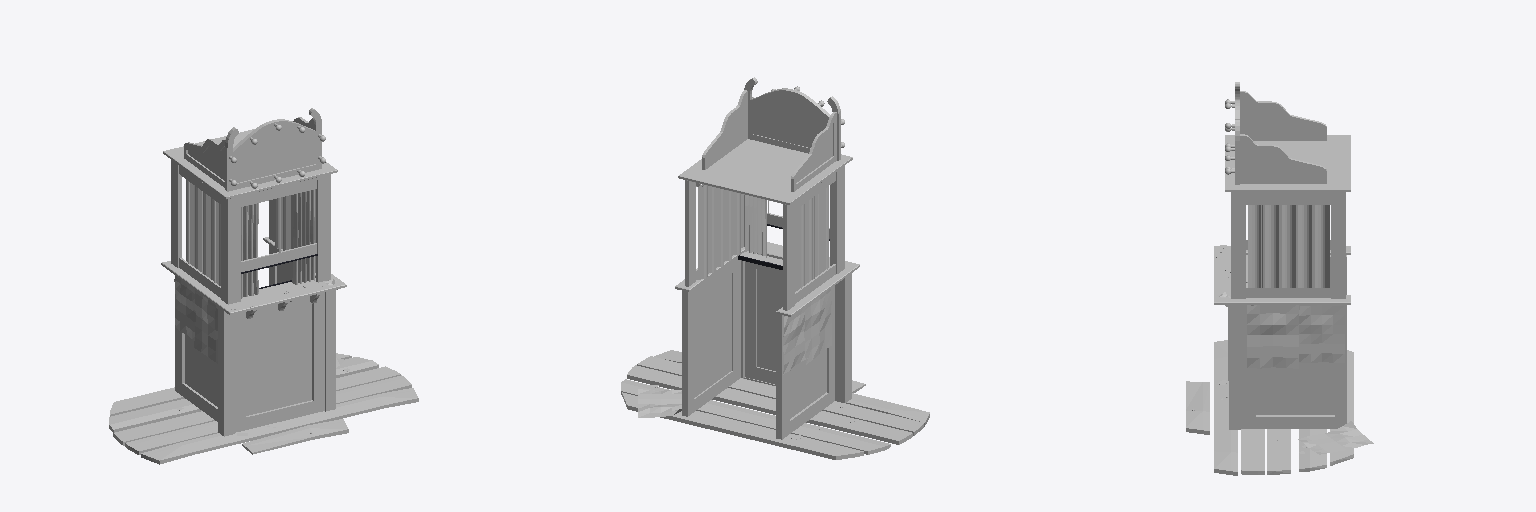
3 views of the same model, side by side, from view 1: azimuth 30°, elevation 25°; view 2: azimuth 150°, elevation 25°; view 3: azimuth 270°, elevation 25° (orthographic).
Parts seen in each view (by area): view 1: pCube1_Front_Wood_Panel_0, pCube12_Front_Wood_Panel_0, pCube33_Wood_Stuff1_0, pCube26_Main_Sign_and_Ticket_0, pCube31_Side_Wood_Panel_0, pTorus19_Drapings_0, pCube29_Wood_Stuff1_0, pCube32_Front_Wood_Panel_0, pCube34_Wood_Stuff1_0, pCube26_Front_Wood_Panel_0, pCube3_Front_Wood_Panel_0, pCube35_Wood_Stuff1_0 (+13 smaller); view 2: pCube20_Front_Wood_Panel_0, pCube31_Side_Wood_Panel_0, pCube12_Front_Wood_Panel_0, pCube30_Wood_Stuff1_0, pCube30_Side_Wood_Panel_0, pTorus20_Drapings_0, pCube34_Wood_Stuff1_0, pCube36_Wood_Stuff1_0, pCube26_Wood_Stuff1_0, pCube35_Wood_Stuff1_0, pTorus19_Drapings_0, pCube29_Wood_Stuff1_0 (+13 smaller); view 3: pCube30_Side_Wood_Panel_0, pTorus20_Drapings_0, pCube20_Front_Wood_Panel_0, pCube12_Front_Wood_Panel_0, pPlane7_Full_Details_0, pCube67_Front_Wood_Panel_0, pPlane11_Full_Details_0, pCube33_Wood_Stuff1_0, pCube3_Front_Wood_Panel_0, pCube2_Front_Wood_Panel_0, pCube25_Front_Wood_Panel_0, pCube25_Main_Sign_and_Ticket_0 (+8 smaller).
Boxes of the visible parts, x1,y1,x2,y2 form: pCube1_Front_Wood_Panel_0: [235, 292, 324, 432]; pCube12_Front_Wood_Panel_0: [171, 160, 330, 304]; pCube33_Wood_Stuff1_0: [141, 388, 418, 464]; pCube26_Main_Sign_and_Ticket_0: [233, 127, 315, 182]; pCube31_Side_Wood_Panel_0: [175, 294, 217, 421]; pTorus19_Drapings_0: [186, 180, 220, 285]; pCube29_Wood_Stuff1_0: [125, 375, 411, 454]; pCube32_Front_Wood_Panel_0: [218, 307, 234, 436]; pCube34_Wood_Stuff1_0: [113, 366, 400, 445]; pCube26_Front_Wood_Panel_0: [225, 108, 321, 191]; pCube3_Front_Wood_Panel_0: [161, 237, 346, 314]; pCube35_Wood_Stuff1_0: [109, 357, 378, 432]; pCube20_Front_Wood_Panel_0: [678, 139, 852, 204]; pCube31_Side_Wood_Panel_0: [776, 286, 834, 439]; pCube12_Front_Wood_Panel_0: [685, 166, 844, 310]; pCube30_Wood_Stuff1_0: [694, 274, 731, 397]; pCube30_Side_Wood_Panel_0: [682, 257, 740, 416]; pTorus20_Drapings_0: [698, 185, 740, 279]; pCube34_Wood_Stuff1_0: [627, 365, 912, 444]; pCube36_Wood_Stuff1_0: [622, 392, 863, 459]; pCube26_Wood_Stuff1_0: [750, 96, 827, 147]; pCube35_Wood_Stuff1_0: [621, 379, 890, 454]; pTorus19_Drapings_0: [795, 186, 828, 291]; pCube29_Wood_Stuff1_0: [637, 356, 923, 435]; pCube30_Side_Wood_Panel_0: [1241, 305, 1346, 428]; pTorus20_Drapings_0: [1248, 205, 1329, 287]; pCube20_Front_Wood_Panel_0: [1225, 135, 1350, 191]; pCube12_Front_Wood_Panel_0: [1231, 192, 1345, 298]; pPlane7_Full_Details_0: [1247, 305, 1298, 368]; pCube67_Front_Wood_Panel_0: [1240, 91, 1326, 140]; pPlane11_Full_Details_0: [1299, 305, 1344, 362]; pCube33_Wood_Stuff1_0: [1214, 340, 1237, 475]; pCube3_Front_Wood_Panel_0: [1214, 246, 1350, 304]; pCube2_Front_Wood_Panel_0: [1229, 305, 1240, 429]; pCube25_Front_Wood_Panel_0: [1240, 134, 1326, 183]; pCube25_Main_Sign_and_Ticket_0: [1245, 142, 1321, 177].
Bounding box in the file's own units: 0.08 × 0.0846 × 0.047.